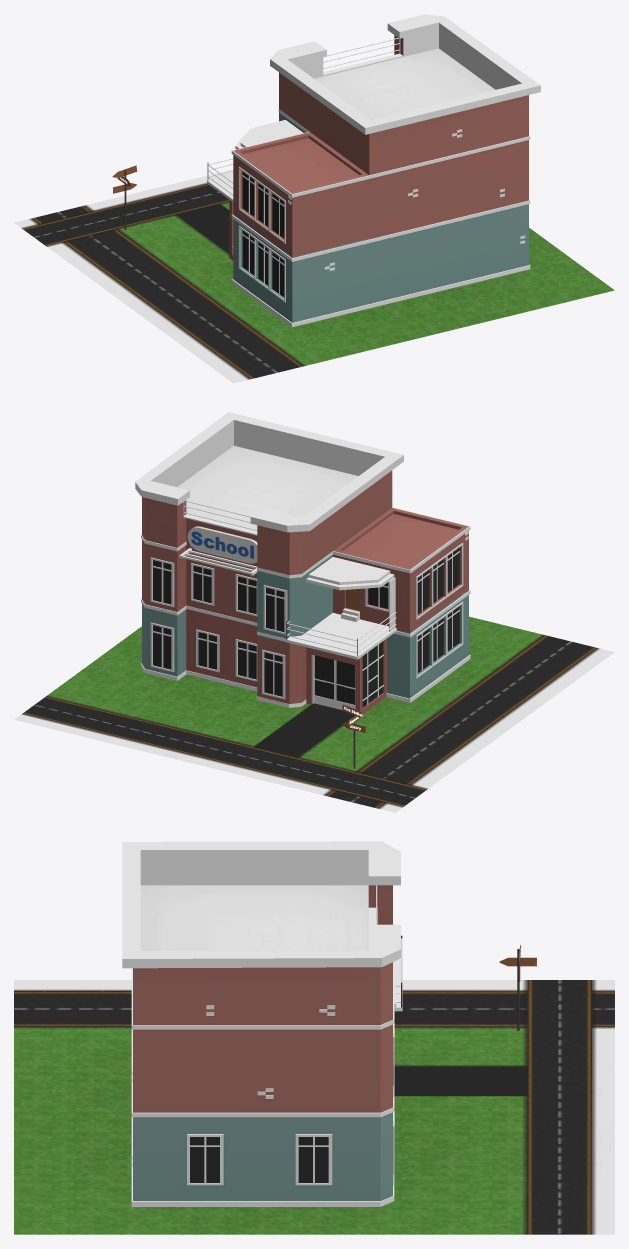
File: school.glb
3 views of the same model, one above another, from view 1: azimuth 30°, elevation 25°; view 2: azimuth 150°, elevation 25°; view 3: azimuth 270°, elevation 25° (orthographic). The views are drawn at different scales.
Visible parts, largest first — view 1: Object_3; view 2: Object_3, Object_2; view 3: Object_3.
Part boxes in pixels (box(x1,y1,x2,y2)): Object_3: box(14, 14, 614, 383); Object_3: box(14, 412, 614, 812); Object_2: box(306, 647, 359, 710); Object_3: box(14, 841, 614, 1234).
Size of the model in its own units: 2288 by 1057 by 2281.
1 material, 1 textured.
